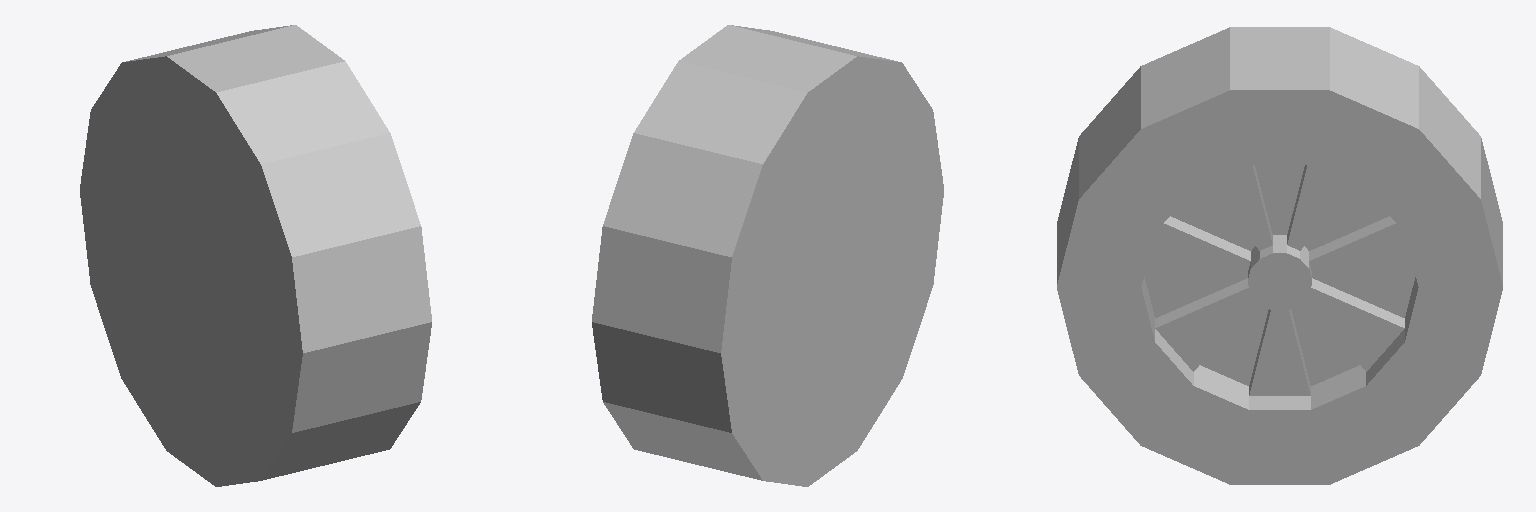
The model's file is wheel.obj.
3 renders of one model, left to right at view 1: azimuth 30°, elevation 25°; view 2: azimuth 150°, elevation 25°; view 3: azimuth 270°, elevation 25°, orthographic.
Visible parts, largest first — view 1: roda; view 2: roda; view 3: roda.
Part boxes in pixels (x1,y1,x2,y2): roda: (80, 25, 431, 486); roda: (592, 25, 943, 486); roda: (1057, 27, 1502, 484).
Bounding box in the file's own units: 0.2398 × 0.6987 × 0.7167.